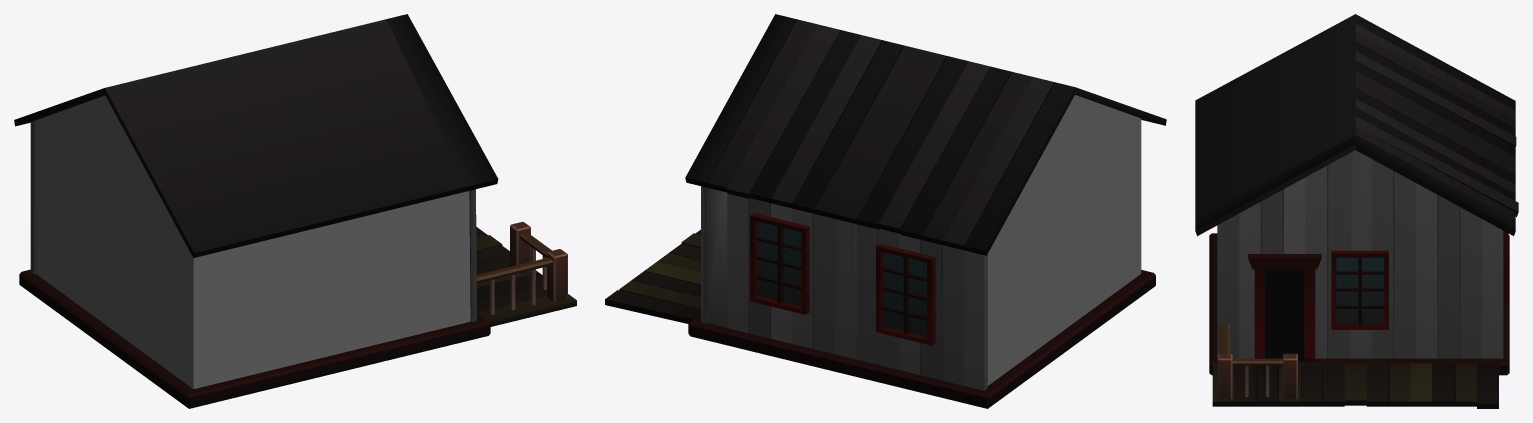
The model's file is building_4.fbx.
3 renders of one model, left to right at view 1: azimuth 30°, elevation 25°; view 2: azimuth 150°, elevation 25°; view 3: azimuth 270°, elevation 25°, orthographic. The views are drawn at different scales.
Visible parts, largest first — view 1: building_4; view 2: building_4; view 3: building_4.
Boxes of the visible parts, x1=… form: building_4: x1=14, y1=14, x2=576, y2=408; building_4: x1=605, y1=14, x2=1166, y2=408; building_4: x1=1195, y1=14, x2=1518, y2=408.
Size of the model in its own units: 9.53 by 6.05 by 7.67.
